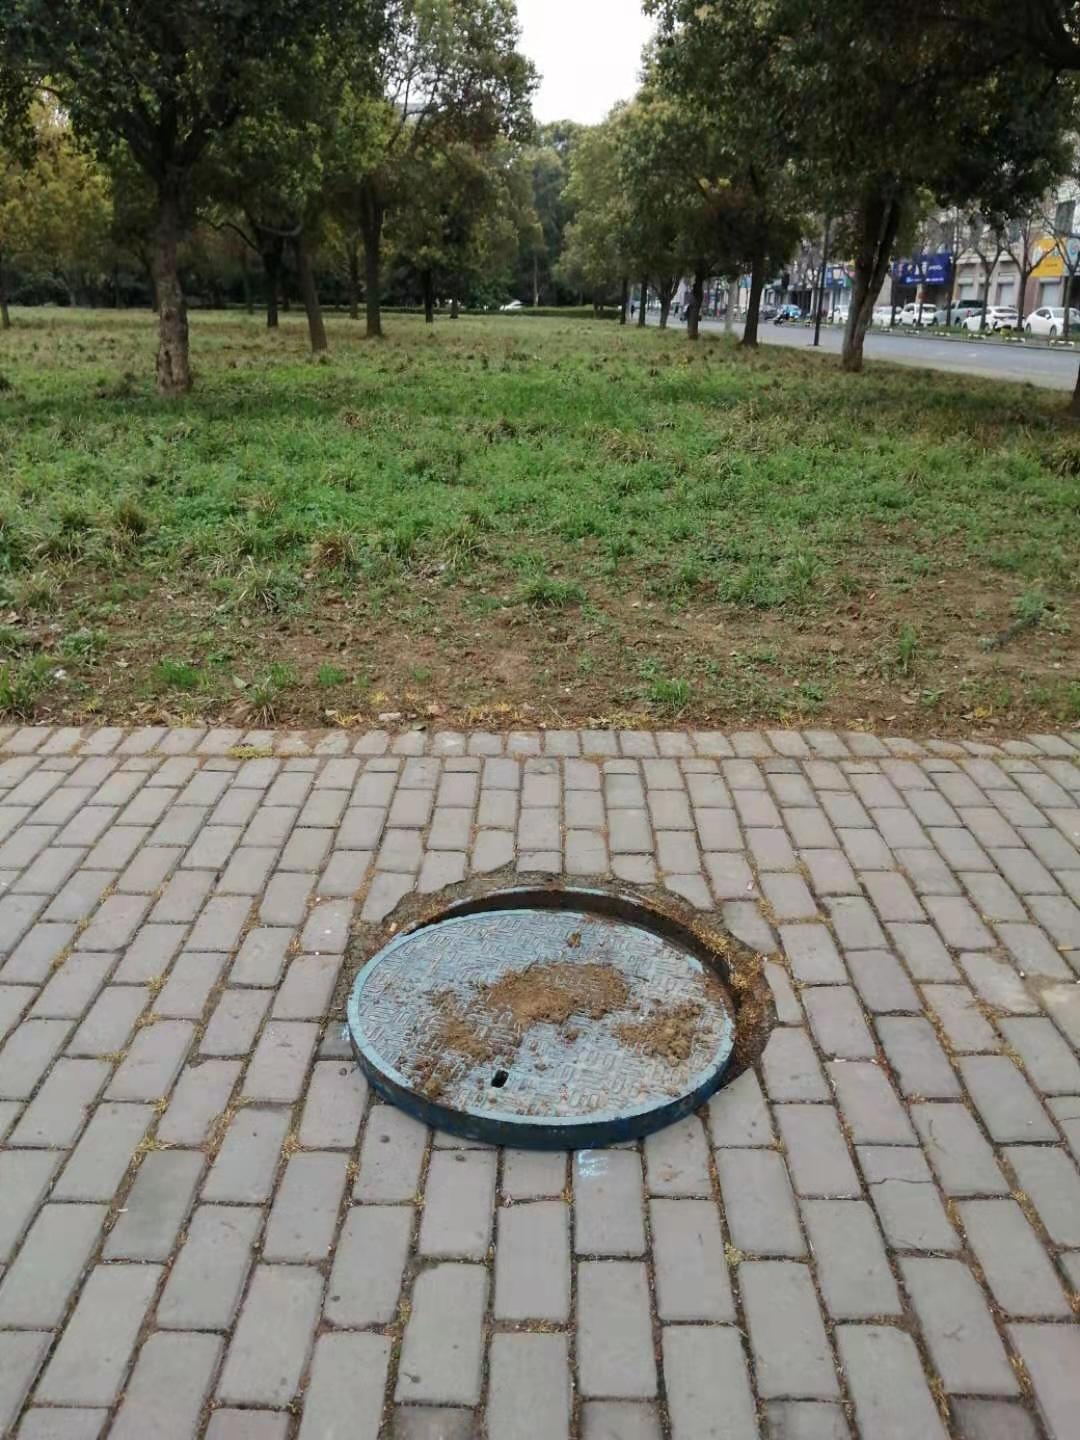uncovered: (345, 874, 756, 1141)
